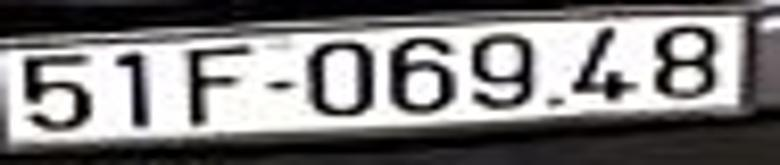-: (266, 77, 297, 92)
0: (308, 39, 374, 116)
1: (113, 50, 152, 128)
4: (571, 29, 640, 103)
5: (21, 52, 97, 131)
6: (389, 33, 458, 116)
8: (653, 22, 720, 104)
9: (471, 30, 536, 113), (546, 94, 568, 113)
F: (186, 45, 256, 120)
